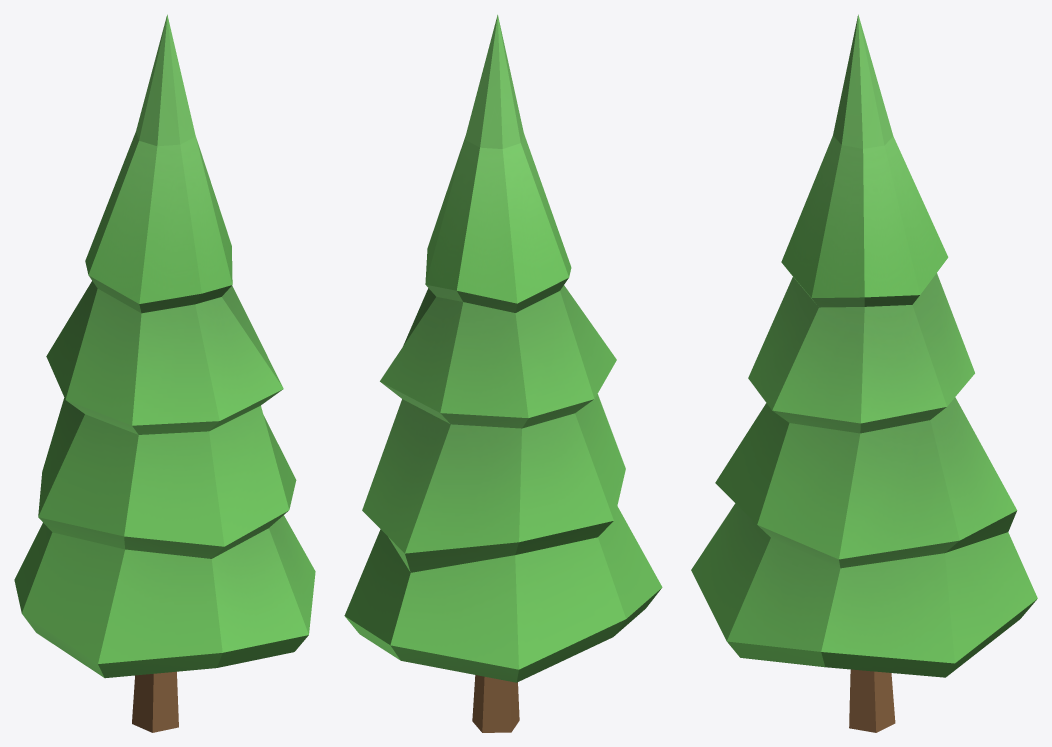
File: Fir_Tree_m_02_LOD.fbx
3 renders of one model, left to right at view 1: azimuth 30°, elevation 25°; view 2: azimuth 150°, elevation 25°; view 3: azimuth 270°, elevation 25°, orthographic.
Visible parts, largest first — view 1: Fir_Tree_m_02_LOD0; view 2: Fir_Tree_m_02_LOD0; view 3: Fir_Tree_m_02_LOD0.
Boxes of the visible parts, bbox=[...] form: Fir_Tree_m_02_LOD0: bbox=[14, 14, 315, 732]; Fir_Tree_m_02_LOD0: bbox=[344, 14, 662, 732]; Fir_Tree_m_02_LOD0: bbox=[691, 14, 1037, 732].
Size of what is drawn, in the model's own units: 286 by 728 by 322.
